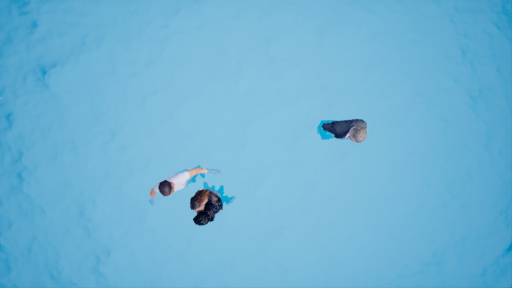person: (307, 101, 378, 150), (146, 156, 223, 196), (189, 183, 242, 226)
